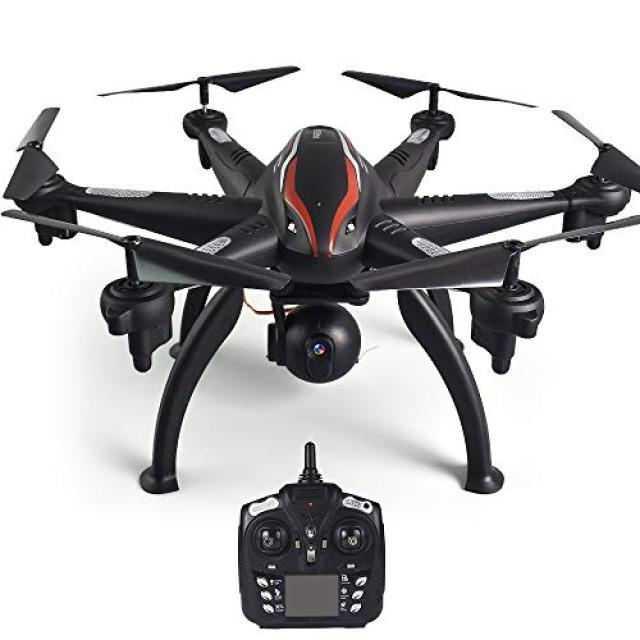drone: (33, 51, 640, 467)
